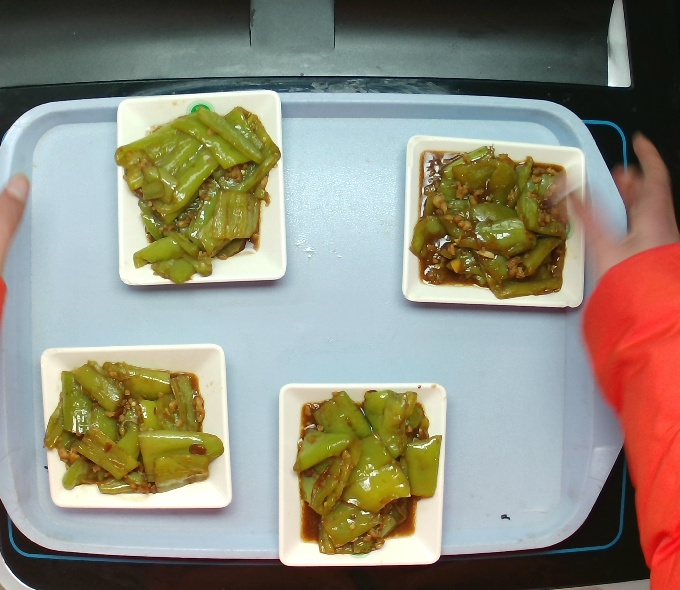wcq-RouMoQingJiao: (117, 95, 278, 290), (280, 381, 440, 564), (410, 141, 574, 301), (45, 351, 209, 498)
